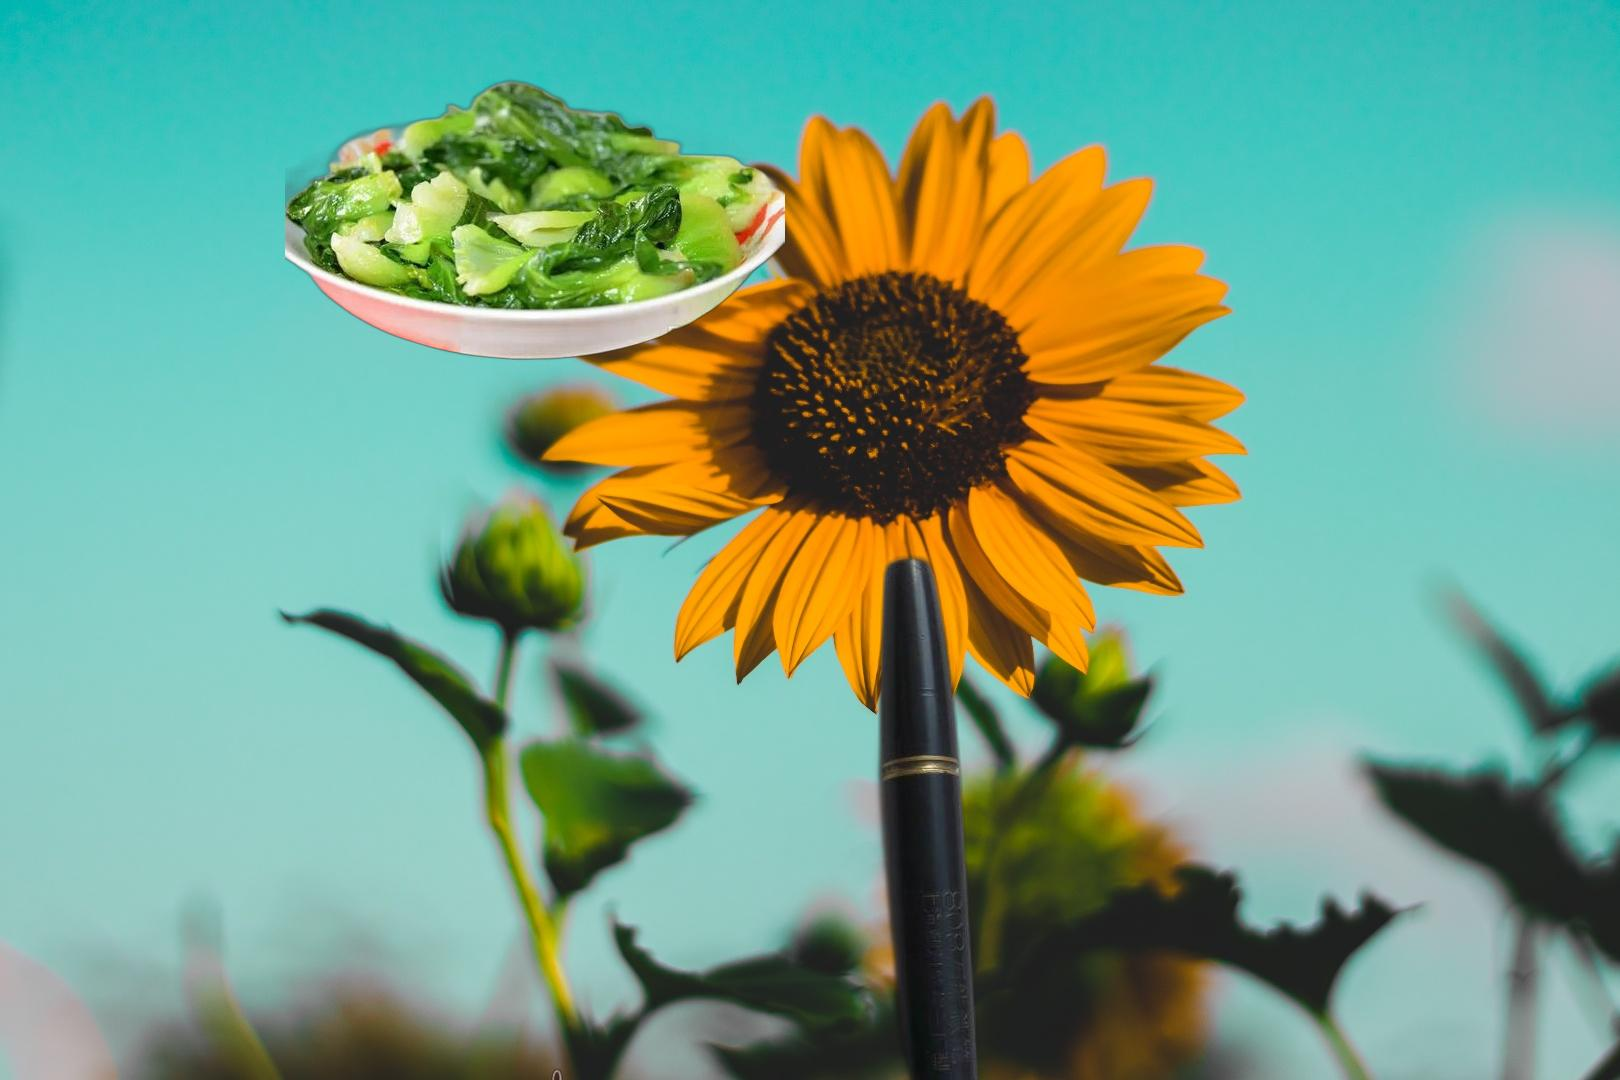biological: (284, 77, 785, 362)
clothes: (327, 1064, 689, 1080)
glass: (877, 1078, 1012, 1080)
penholder: (871, 546, 1002, 1080)
